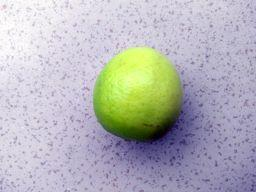lemon: (81, 40, 190, 156)
